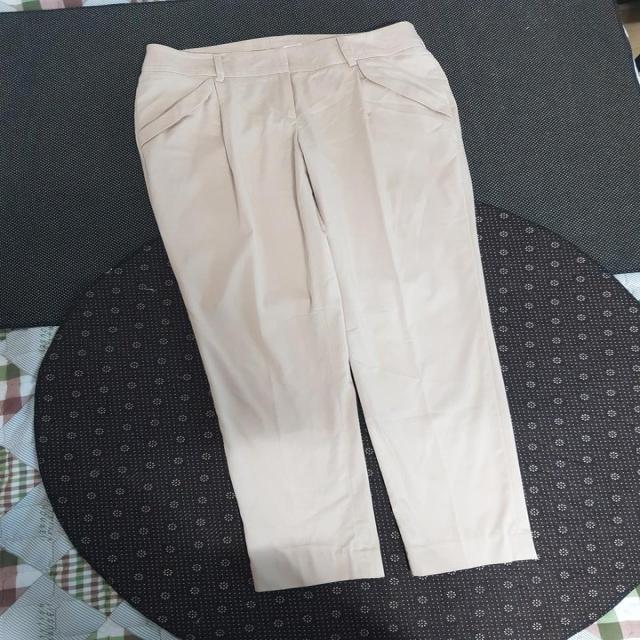long-pants: (130, 18, 539, 592)
